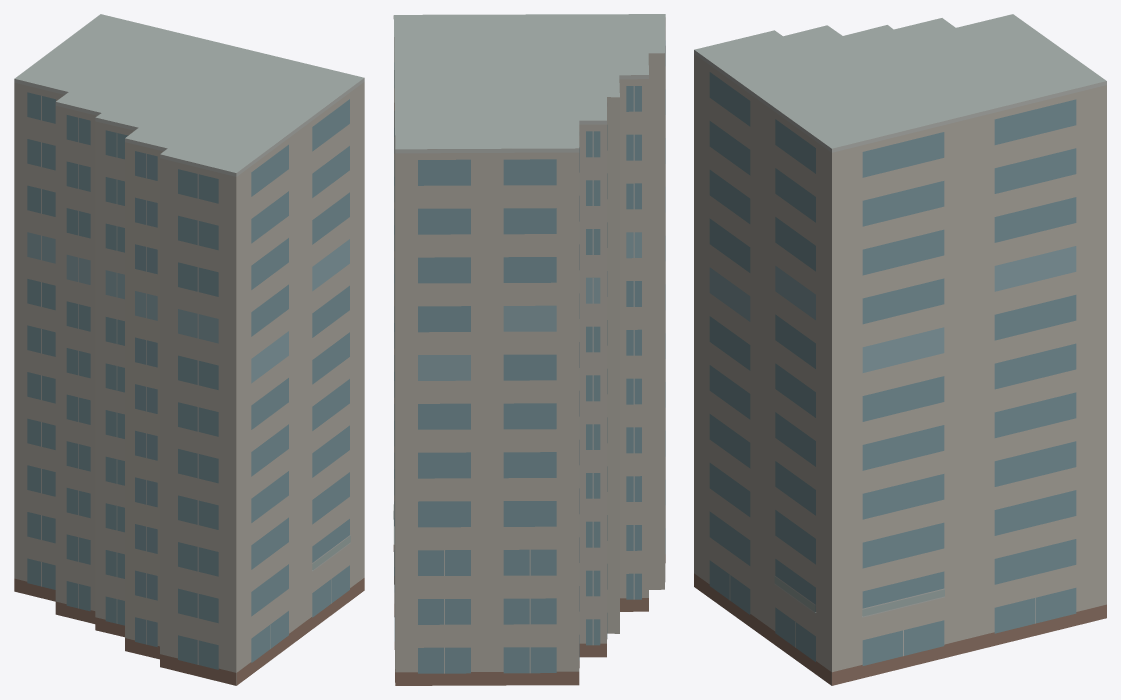
File: survey-upis-32834350.glb
3 renders of one model, left to right at view 1: azimuth 30°, elevation 25°; view 2: azimuth 150°, elevation 25°; view 3: azimuth 270°, elevation 25°, orthographic. The views are drawn at different scales.
Parts seen in each view (by area): view 1: survey-upis-32834350.tmp; view 2: survey-upis-32834350.tmp; view 3: survey-upis-32834350.tmp.
Boxes of the visible parts, left/top/right/bottom form: survey-upis-32834350.tmp: left=14, top=14, right=364, bottom=685; survey-upis-32834350.tmp: left=393, top=14, right=665, bottom=685; survey-upis-32834350.tmp: left=694, top=14, right=1106, bottom=685.
Size of the model in its own units: 17.28 by 32.1 by 22.36.
